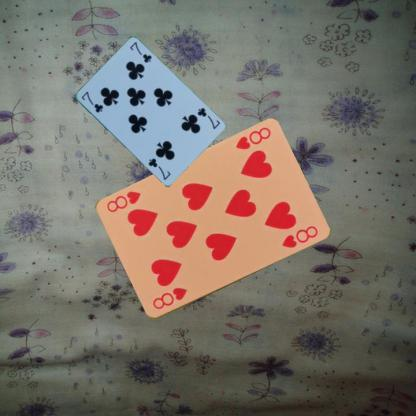7c: (194, 105, 220, 130), (79, 89, 104, 114)
8h: (232, 125, 272, 151), (150, 285, 188, 311)
